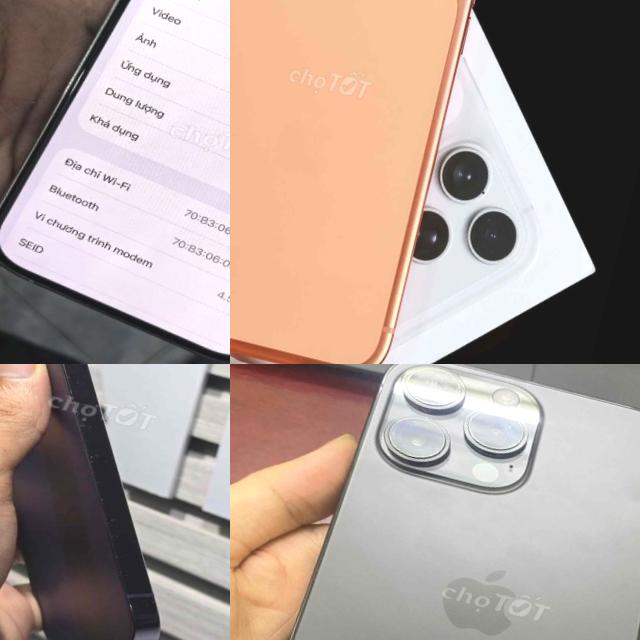gen_14: (230, 364, 640, 640), (0, 0, 230, 364), (0, 364, 230, 640)
gen_17: (230, 0, 530, 364)
